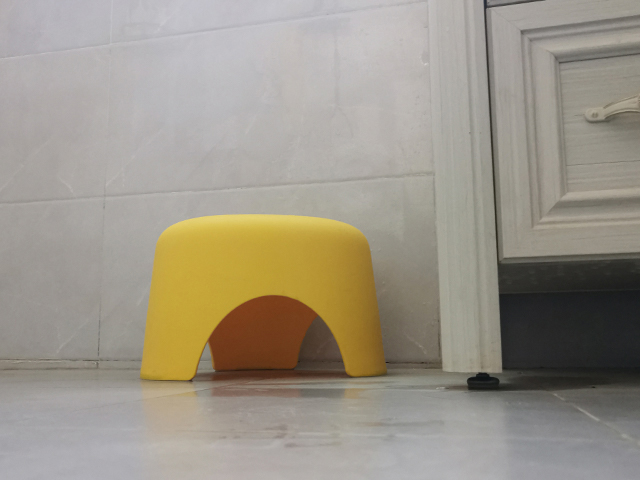cabinet: (425, 1, 640, 392)
stool: (138, 211, 388, 384)
